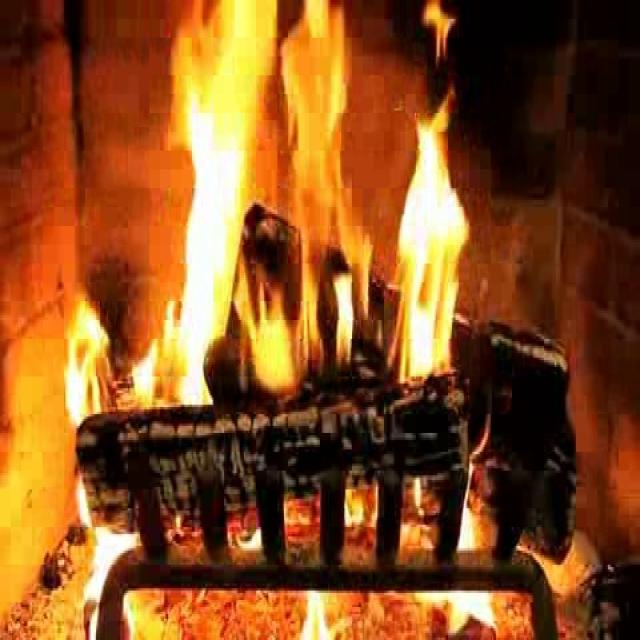fire: (153, 11, 469, 425)
